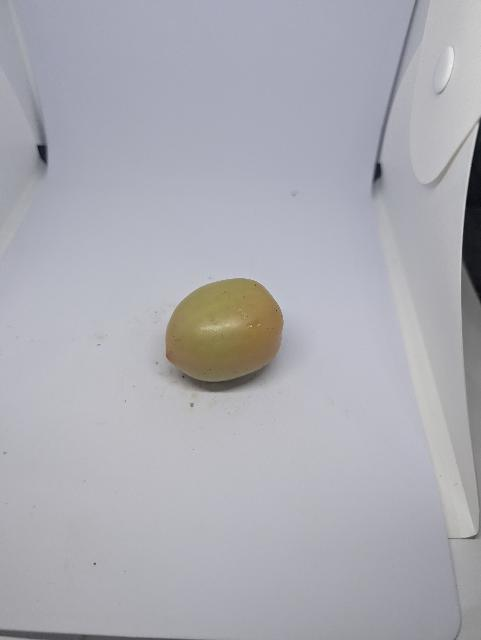turning: (166, 278, 284, 382)
